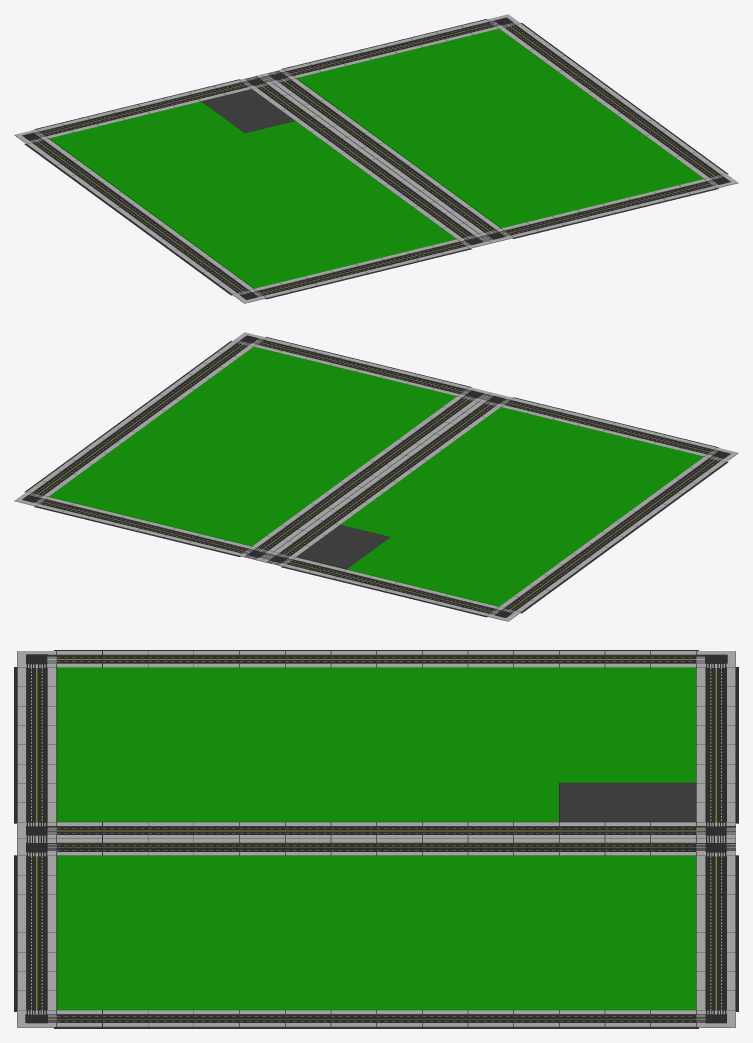
Rendered from CampoCalles.fbx.
3 views of the same model, one above another, from view 1: azimuth 30°, elevation 25°; view 2: azimuth 150°, elevation 25°; view 3: azimuth 270°, elevation 25° (orthographic). The views are drawn at different scales.
Parts seen in each view (by area): view 1: Cube.024, Cube.026, Plane.183, CuadroP.048, CuadroP.031, Plane.223, Plane.238, Cube.001; view 2: Cube.024, Cube.026, Plane.183, CuadroP.031, CuadroP.048, Plane.223, Plane.238, Cube.001; view 3: Cube.024, Cube.026, Plane.183, CuadroP.031, CuadroP.048, Plane.238, Plane.223, Cube.001.
Boxes of the visible parts, x1,y1,x2,y2 form: Cube.024: (296, 29, 703, 228); Cube.026: (49, 101, 456, 288); Plane.183: (252, 78, 500, 238); CuadroP.048: (232, 173, 738, 303); CuadroP.031: (14, 14, 520, 144); Plane.223: (24, 139, 253, 295); Plane.238: (500, 23, 728, 178); Cube.001: (201, 89, 295, 133); Cube.024: (49, 347, 456, 546); Cube.026: (341, 407, 703, 606); Plane.183: (252, 396, 500, 556); CuadroP.031: (14, 491, 520, 621); CuadroP.048: (232, 332, 738, 462); Plane.223: (499, 457, 728, 613); Plane.238: (24, 341, 252, 496); Cube.001: (296, 524, 390, 569); Cube.024: (56, 855, 696, 1010); Cube.026: (56, 667, 696, 822); Plane.183: (56, 822, 696, 855); CuadroP.031: (696, 651, 738, 1027); CuadroP.048: (14, 651, 56, 1027); Plane.238: (54, 1010, 698, 1028); Plane.223: (54, 650, 698, 667); Cube.001: (559, 782, 696, 822).
Bounding box in the file's own units: 78506 × 235 × 63501.
